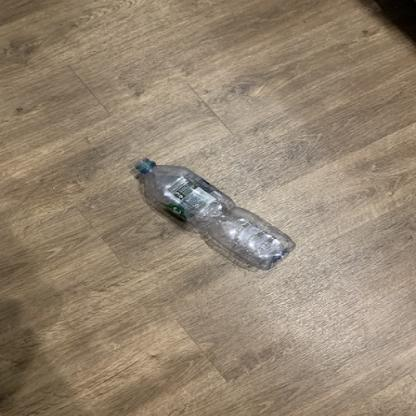trash: (126, 155, 299, 273)
